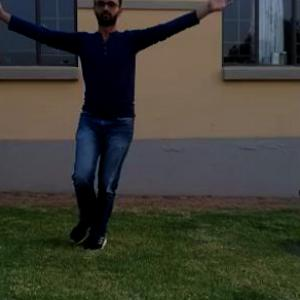takeoff: (0, 0, 207, 218)
